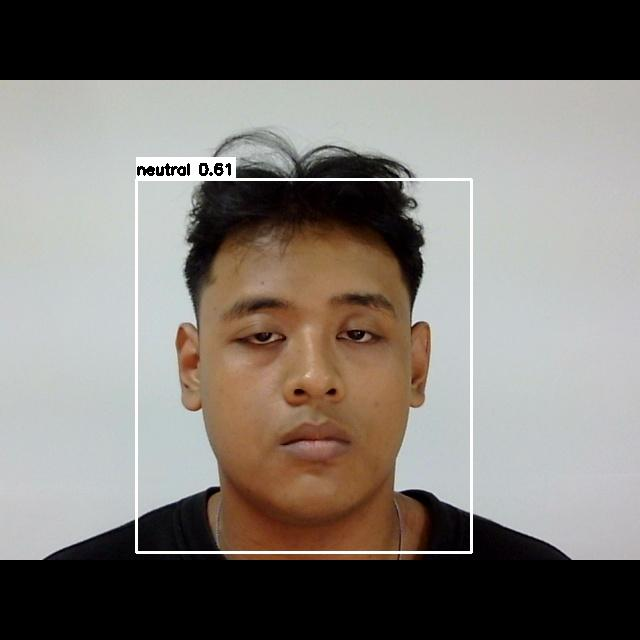Natural: (208, 284, 419, 516)
